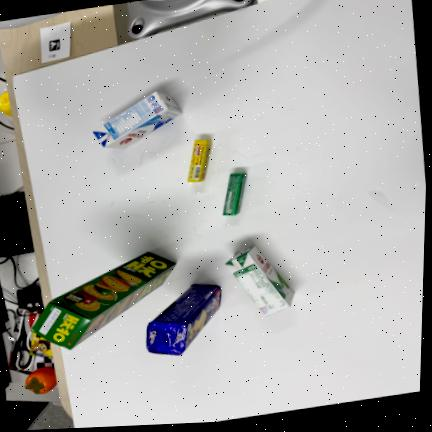cracker_ace: (146, 284, 221, 355)
cracker_vege: (32, 252, 176, 350)
gum_green: (223, 173, 247, 216)
gum_yellow: (188, 140, 212, 182)
milk_blue: (93, 92, 182, 148)
milk_green: (226, 245, 294, 316)
